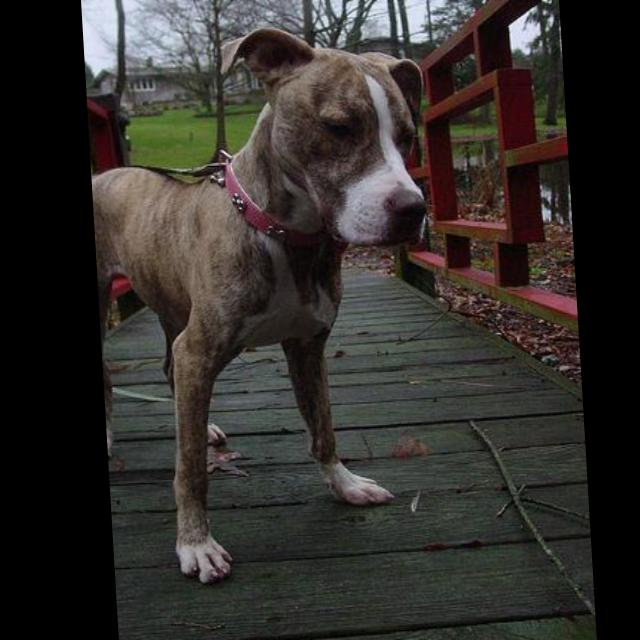amstaff: (84, 26, 447, 585)
